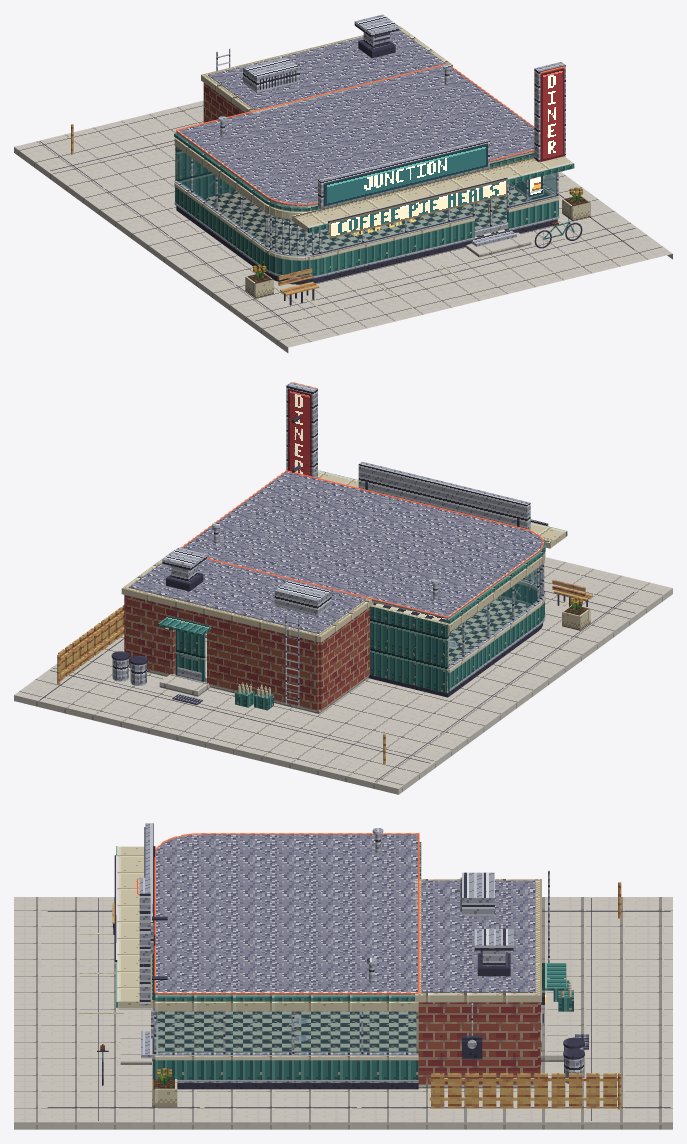
File: junction-diner.glb
3 renders of one model, top to bottom at view 1: azimuth 30°, elevation 25°; view 2: azimuth 150°, elevation 25°; view 3: azimuth 270°, elevation 25°, orthographic. The views are drawn at different scales.
Visible parts, largest first — view 1: lot__ground_sidewalk, structure__roof_rolled, structure__trim_aluminium, structure__wall_enamel_teal, structure__wall_porcelain_cream, structure__glass_dining, structure__floor_checker, structure__sign_junction, structure__sign_menu_strap, structure__trim_outline, structure__sign_diner_blade, lot__trim_outline (+4 smaller); view 2: lot__ground_sidewalk, structure__roof_rolled, structure__wall_brick_kitchen, structure__trim_aluminium, structure__wall_enamel_teal, structure__wall_porcelain_cream, structure__glass_dining, lot__detail_timber, structure__floor_checker, structure__sign_diner_blade, lot__trim_outline, structure__trim_outline (+2 smaller); view 3: lot__ground_sidewalk, structure__roof_rolled, structure__wall_porcelain_cream, structure__floor_checker, structure__glass_dining, structure__trim_aluminium, structure__wall_brick_kitchen, structure__wall_enamel_teal, lot__detail_timber, structure__trim_outline, lot__trim_outline, structure__glow_coral_neon (+2 smaller).
Part boxes in pixels (box(x1,y1,x2,y2)): lot__ground_sidewalk: box(14, 100, 672, 352); structure__roof_rolled: box(176, 29, 534, 205); structure__trim_aluminium: box(174, 14, 565, 278); structure__wall_enamel_teal: box(174, 133, 574, 278); structure__wall_porcelain_cream: box(174, 26, 572, 260); structure__glass_dining: box(176, 147, 556, 254); structure__floor_checker: box(204, 184, 530, 278); structure__sign_junction: box(325, 144, 487, 205); structure__sign_menu_strap: box(329, 179, 507, 238); structure__trim_outline: box(176, 33, 557, 284); structure__sign_diner_blade: box(541, 68, 564, 161); lot__trim_outline: box(39, 140, 635, 330); lot__ground_sidewalk: box(14, 557, 672, 794); structure__roof_rolled: box(129, 471, 542, 633); structure__wall_brick_kitchen: box(124, 595, 369, 710); structure__trim_aluminium: box(162, 382, 548, 707); structure__wall_enamel_teal: box(158, 470, 567, 709); structure__wall_porcelain_cream: box(121, 470, 566, 692); structure__glass_dining: box(184, 564, 542, 667); lot__detail_timber: box(57, 580, 592, 764); structure__floor_checker: box(373, 597, 529, 664); structure__sign_diner_blade: box(288, 388, 311, 477); lot__trim_outline: box(40, 591, 635, 781); structure__trim_outline: box(118, 415, 542, 697); lot__ground_sidewalk: box(14, 897, 672, 1129); structure__roof_rolled: box(155, 834, 535, 994); structure__wall_porcelain_cream: box(117, 843, 541, 1060); structure__floor_checker: box(157, 1011, 417, 1082); structure__glass_dining: box(156, 1011, 418, 1052); structure__trim_aluminium: box(114, 823, 565, 1082); structure__wall_brick_kitchen: box(418, 1002, 541, 1084); structure__wall_enamel_teal: box(116, 842, 573, 1079); lot__detail_timber: box(112, 882, 621, 1109); structure__trim_outline: box(144, 827, 567, 1089); lot__trim_outline: box(47, 898, 670, 1120); structure__glow_coral_neon: box(137, 833, 419, 993).
Size of what is drawn, in the model's own units: 17 by 7.16 by 21.
Materials: 23 (23 with a texture image).
